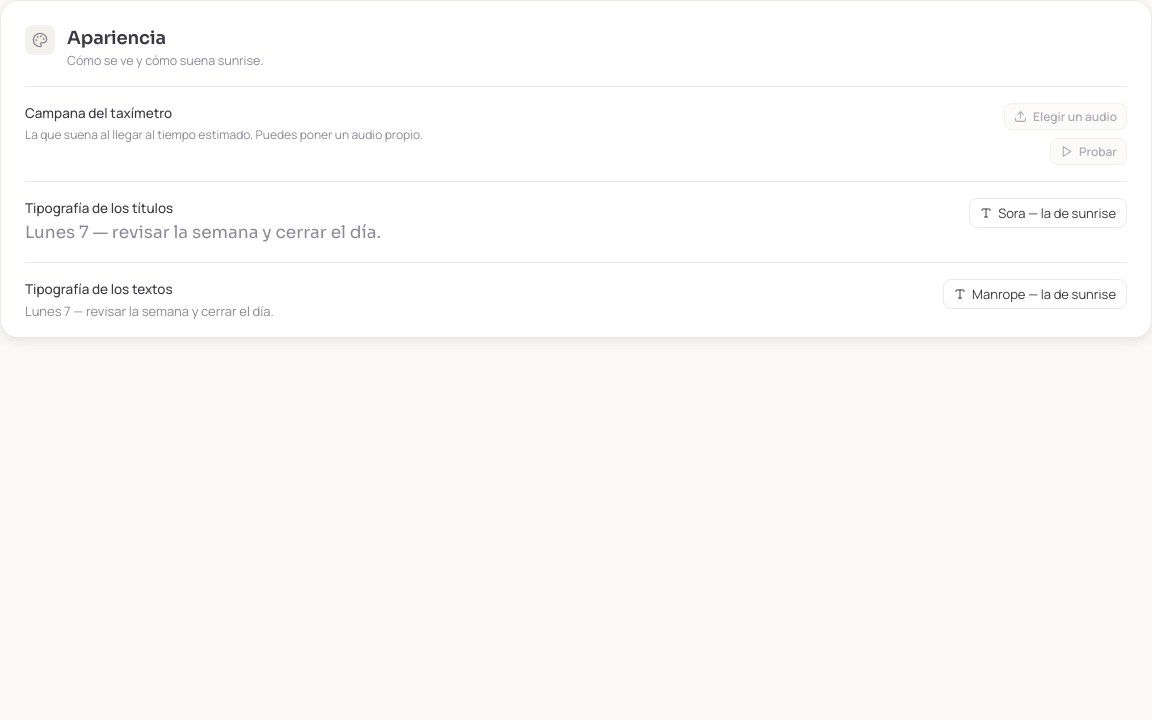
it: AppearanceCard › ofrece las instaladas, más las dos con nombre propio
What coordinates should you click on to do the following:
click the button with aria-label "Elegir la tipografía de los textos"
I would click on:
 (1035, 294)
Its box is [943,279,1127,309].
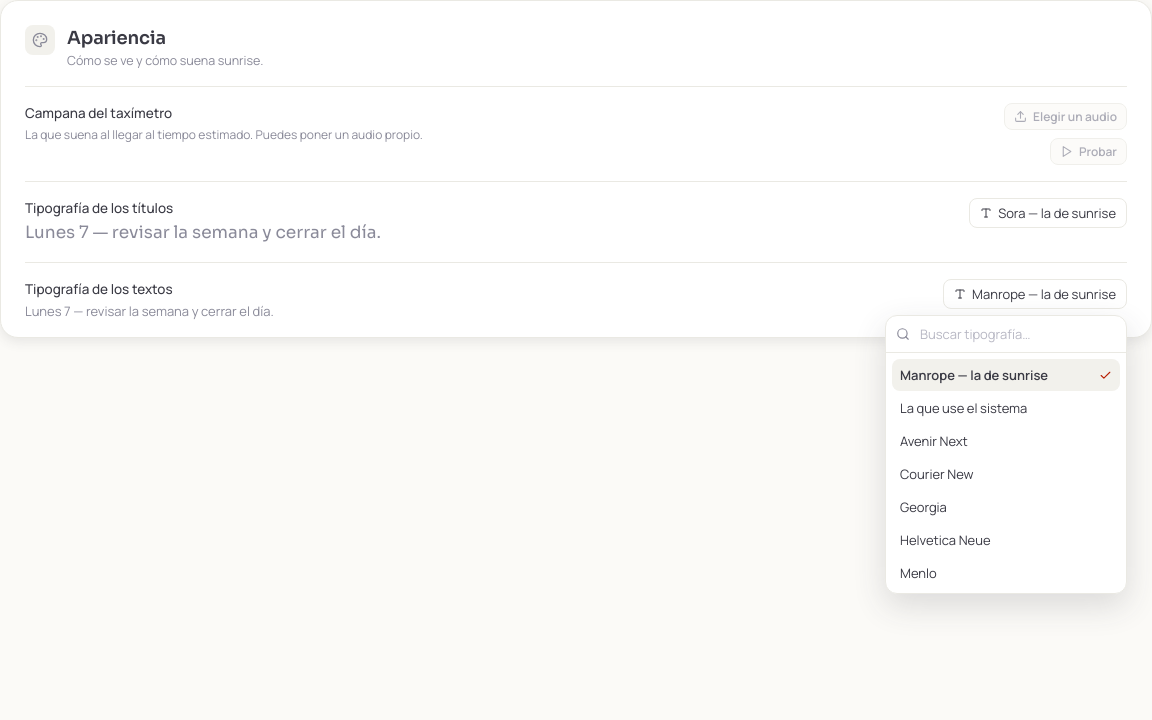
Expected: the text "La que use el sistema" is shown, [900,399,1027,417]
Expected: the text "Helvetica Neue" is shown, [900,531,990,549]
